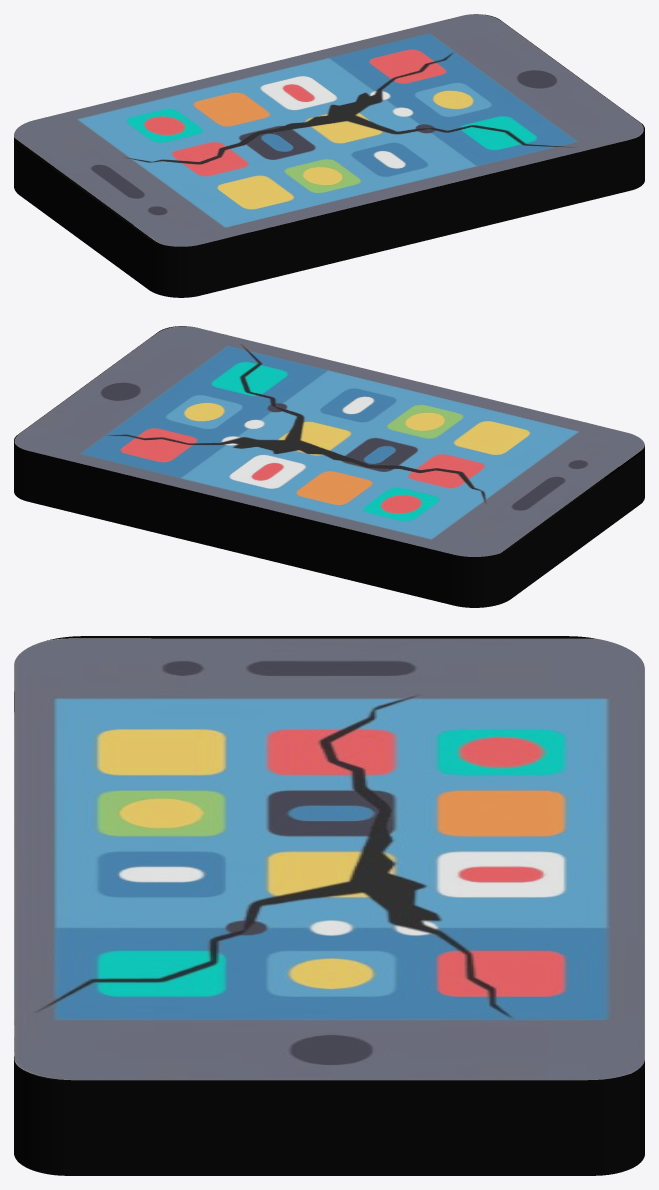
Rendered from CrashedSmartphone00.fbx.
3 renders of one model, top to bottom at view 1: azimuth 30°, elevation 25°; view 2: azimuth 150°, elevation 25°; view 3: azimuth 270°, elevation 25°, orthographic. The views are drawn at different scales.
Parts seen in each view (by area): view 1: Smartphone; view 2: Smartphone; view 3: Smartphone.
Boxes of the visible parts, <box> form: Smartphone: <box>14,14,644,297</box>; Smartphone: <box>14,326,644,607</box>; Smartphone: <box>14,636,644,1175</box>.
Bounding box in the file's own units: 2000 × 200 × 1200.
Materials: 2 (1 with a texture image).
